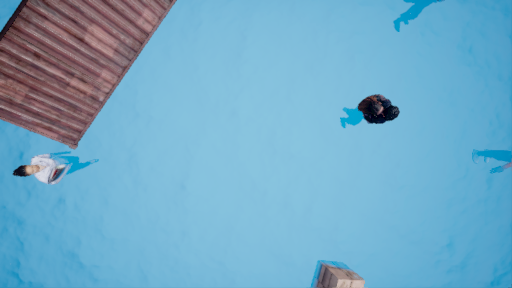person: (8, 152, 100, 186), (335, 91, 405, 135)
